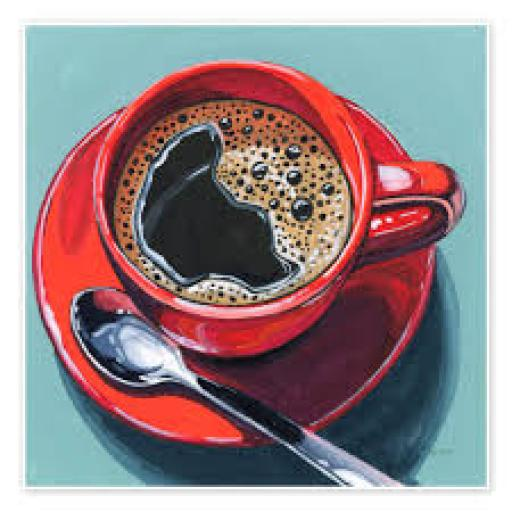red mug: (94, 62, 464, 357)
